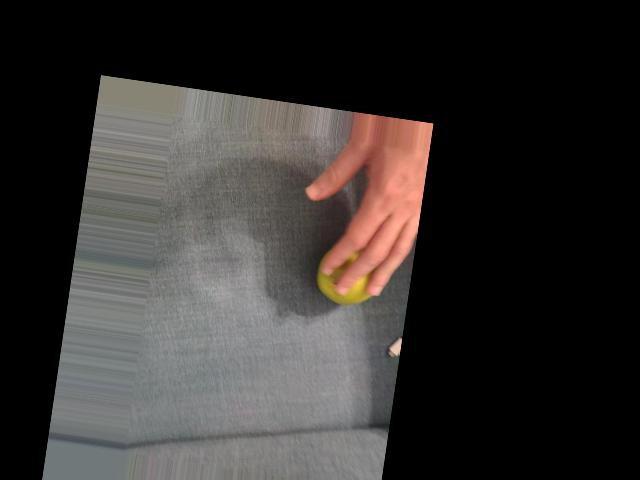apple: (306, 227, 383, 322)
